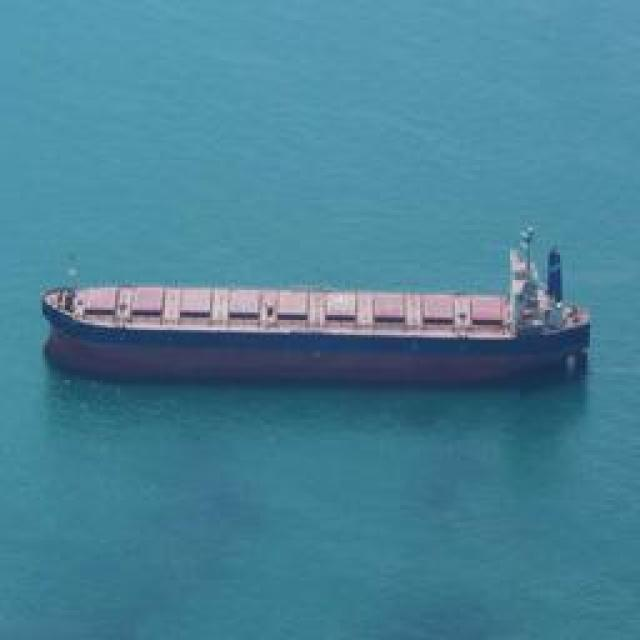CIV_Ship: (49, 244, 596, 388)
